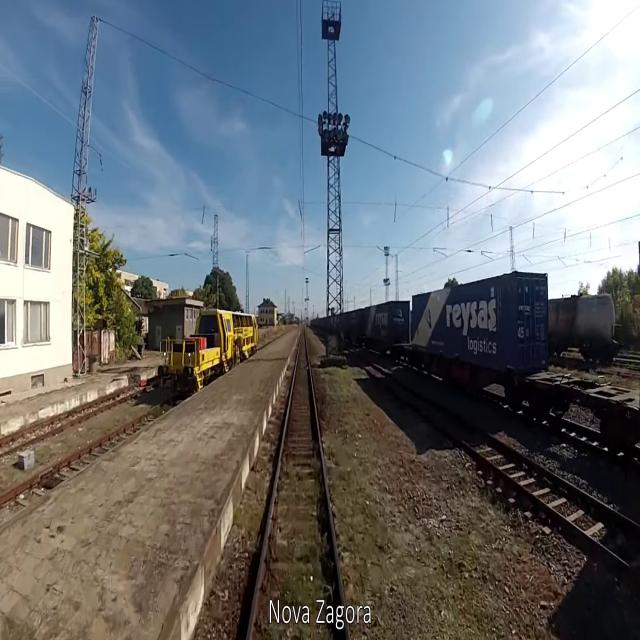rail-track: (357, 358, 640, 568), (251, 332, 345, 639), (0, 412, 76, 450)
